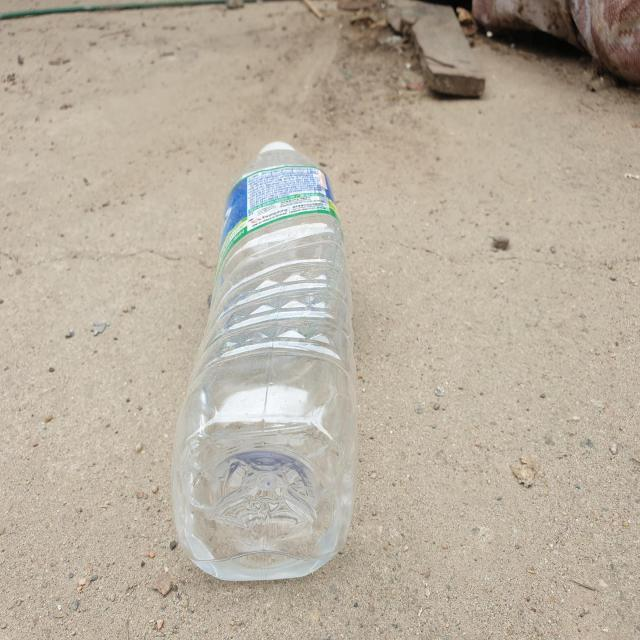plastic: (171, 141, 357, 581)
